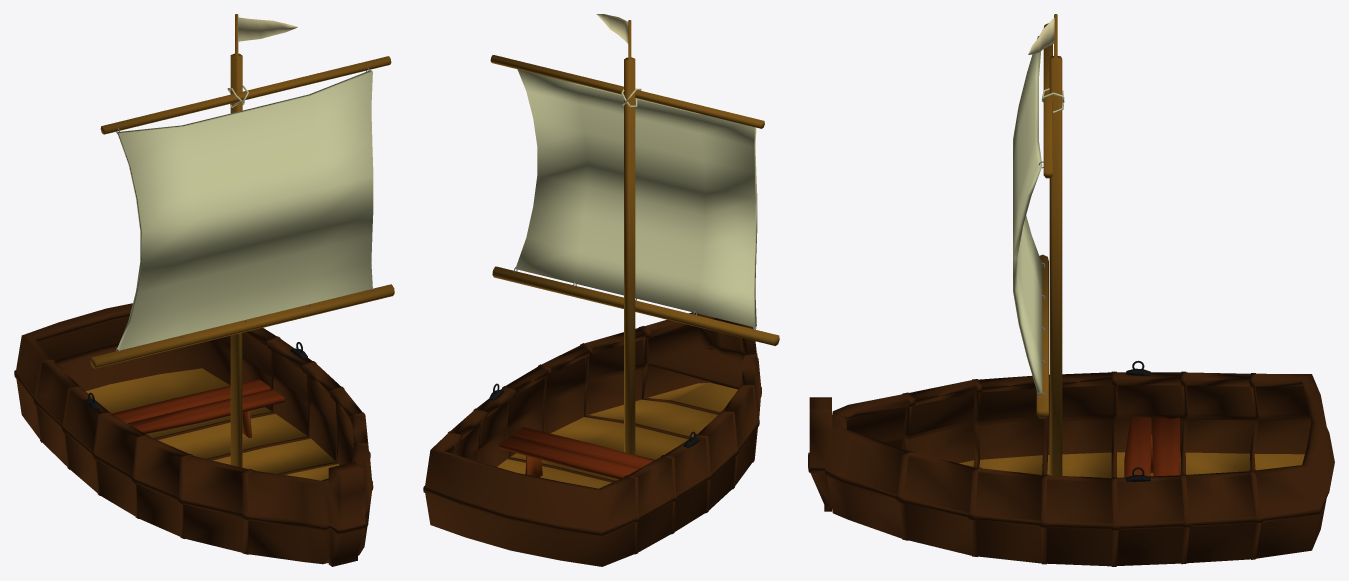
The model's file is Row-Boat.fbx.
3 renders of one model, left to right at view 1: azimuth 30°, elevation 25°; view 2: azimuth 150°, elevation 25°; view 3: azimuth 270°, elevation 25°, orthographic. The views are drawn at different scales.
Visible parts, largest first — view 1: Boat; view 2: Boat; view 3: Boat.
Boxes of the visible parts, box(x1,y1,x2,y2) form: Boat: box(14, 14, 394, 566); Boat: box(423, 14, 779, 566); Boat: box(808, 14, 1334, 566).
Size of the model in its own units: 2814 by 4279 by 4099.
